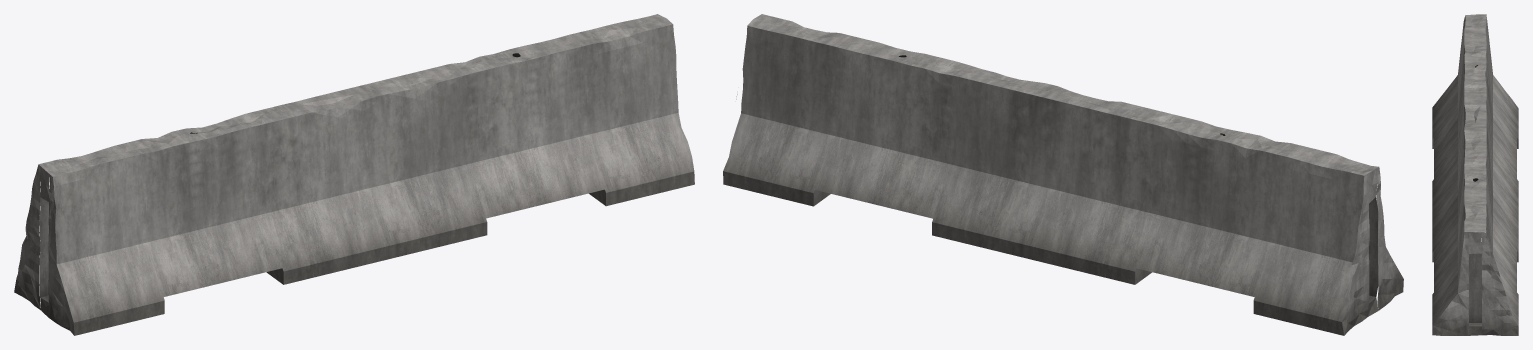
File: detail-barrier-strong-type-a.glb
The picture shows the model from 3 angles, left to right: view 1: azimuth 30°, elevation 25°; view 2: azimuth 150°, elevation 25°; view 3: azimuth 270°, elevation 25°; orthographic projection. The views are drawn at different scales.
Parts seen in each view (by area): view 1: detail-barrier-strong-type-a2; view 2: detail-barrier-strong-type-a2; view 3: detail-barrier-strong-type-a2.
Part boxes in pixels (<box>): detail-barrier-strong-type-a2: <box>14,14,694,335</box>; detail-barrier-strong-type-a2: <box>723,14,1403,335</box>; detail-barrier-strong-type-a2: <box>1432,14,1518,335</box>.
Size of the model in its own units: 0.5834 by 0.1287 by 0.0968.
Materials: 1 (1 with a texture image).
